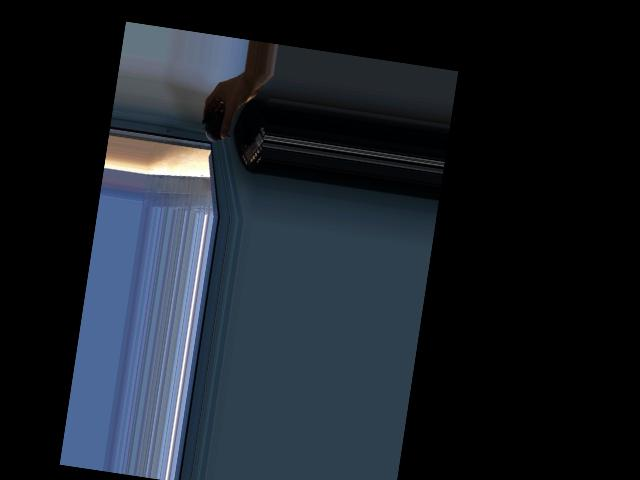beet: (199, 106, 234, 144)
